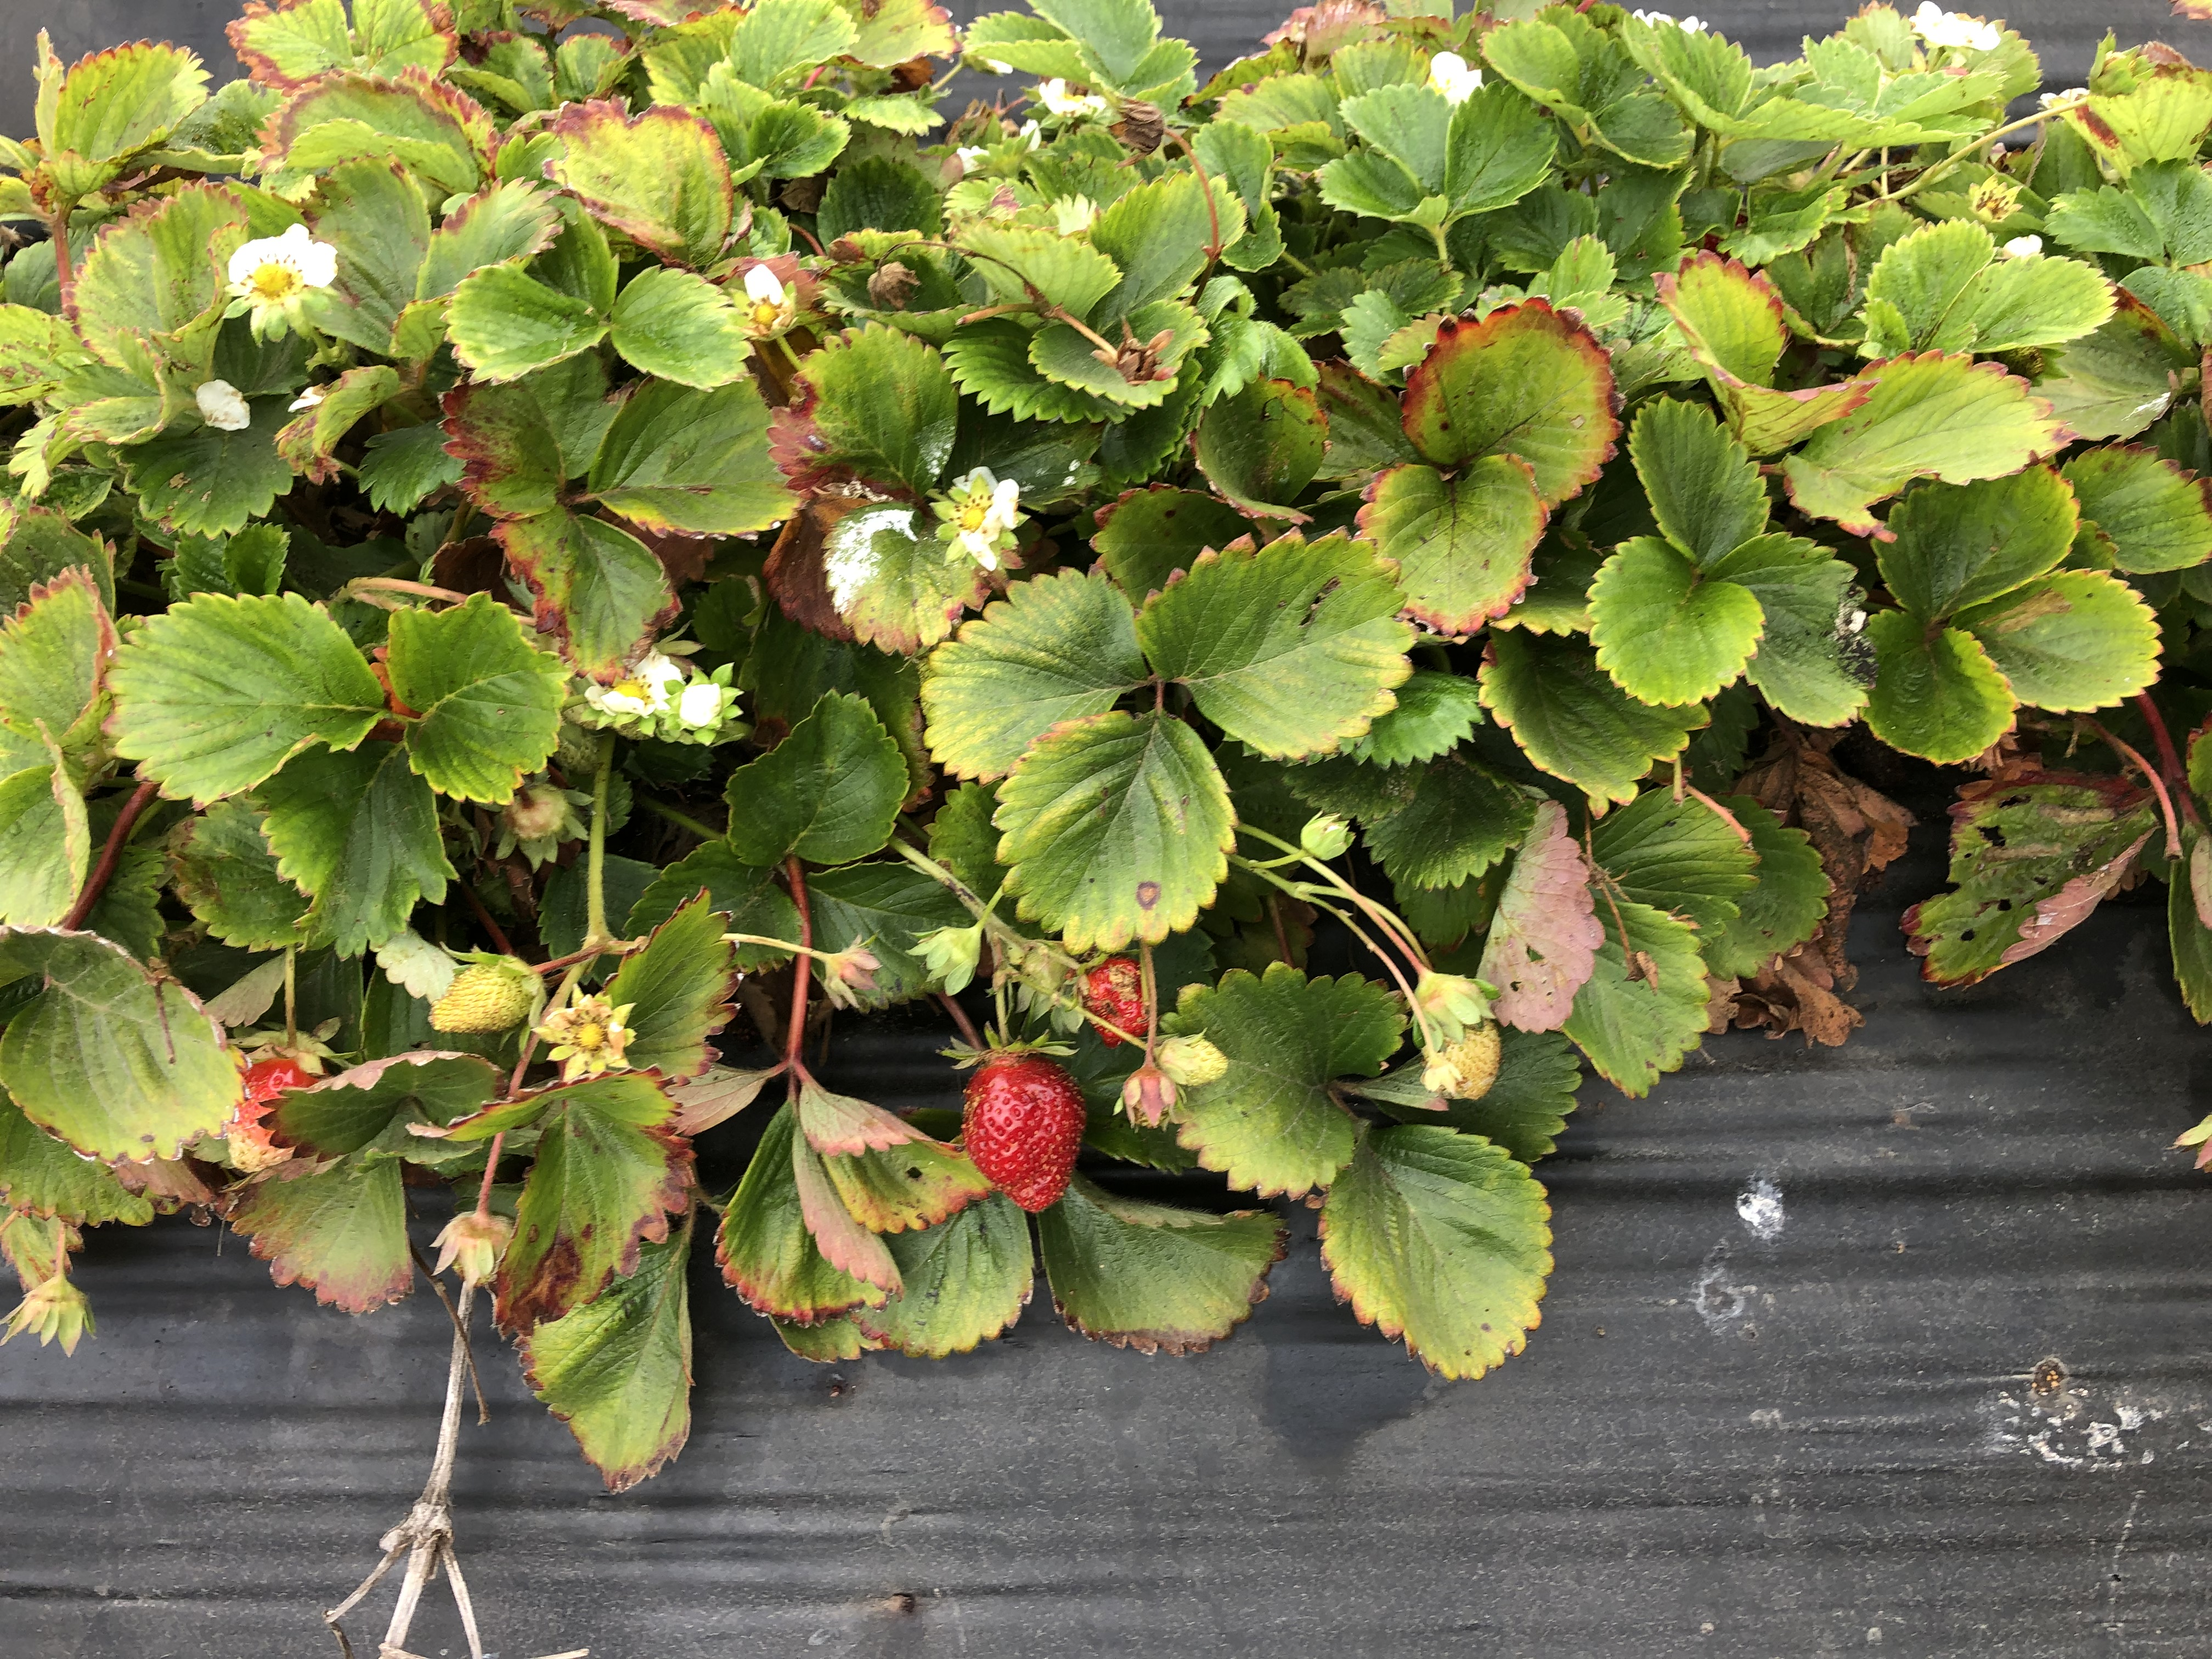ripe_strawberry: (953, 1035, 1087, 1225), (1064, 957, 1162, 1046)
unripe_strawberry: (223, 1035, 334, 1180), (1402, 960, 1508, 1112), (425, 953, 549, 1037), (554, 725, 604, 774)
